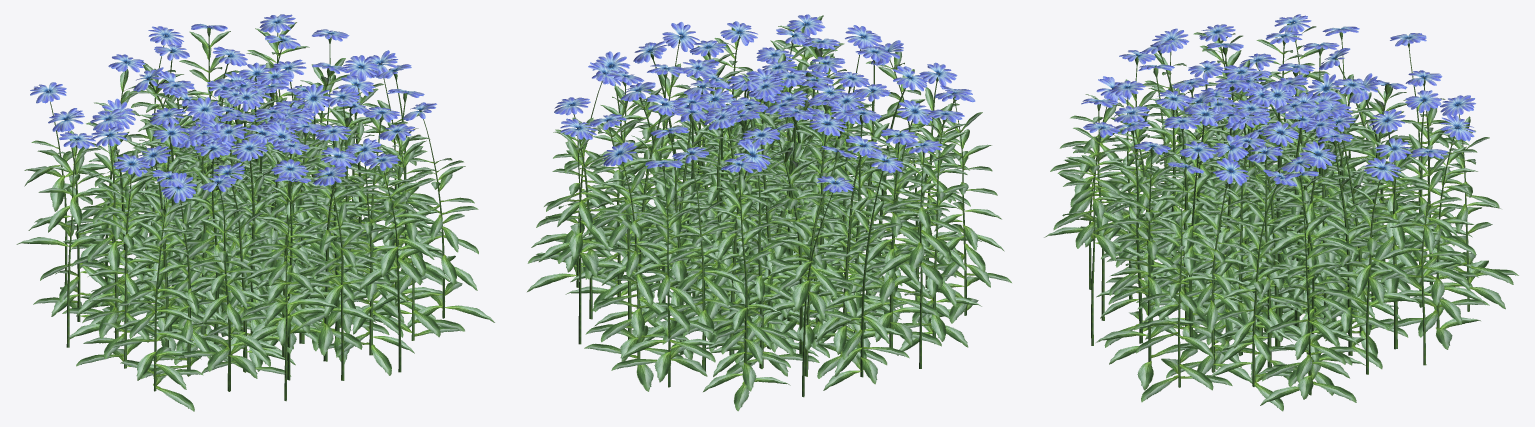
File: хризантемы.glb
3 views of the same model, side by side, from view 1: azimuth 30°, elevation 25°; view 2: azimuth 150°, elevation 25°; view 3: azimuth 270°, elevation 25° (orthographic). The views are drawn at different scales.
Parts seen in each view (by area): view 1: hoacuc; view 2: hoacuc; view 3: hoacuc.
Part boxes in pixels (x1=…): hoacuc: x1=16, y1=14, x2=494, y2=411; hoacuc: x1=527, y1=14, x2=1011, y2=411; hoacuc: x1=1044, y1=14, x2=1518, y2=411.
Size of the model in its own units: 1.97 by 1.05 by 1.95.
Materials: 3 (3 with a texture image).
